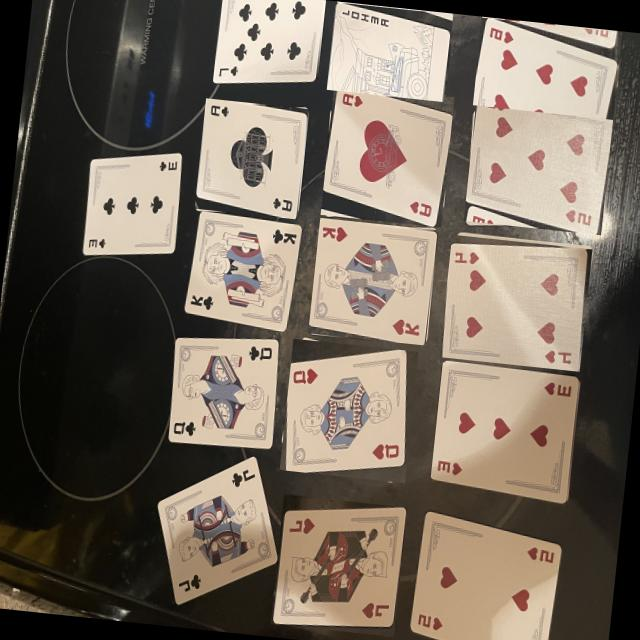2 of hearts: (409, 511, 566, 640)
3 of hearts: (431, 361, 579, 502)
4 of hearts: (444, 242, 589, 369)
5 of hearts: (466, 90, 613, 233)
6 of hearts: (473, 17, 618, 118)
7 of spades: (199, 98, 308, 217), (213, 0, 324, 83)
Ace of hearts: (323, 84, 452, 225)
Jack of hearts: (272, 505, 407, 627)
Joker: (327, 1, 451, 101)
King of hearts: (309, 218, 437, 343)
Queen of hearts: (288, 348, 409, 470)
